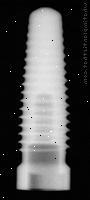Nobel Biocare: (16, 7, 71, 191)
